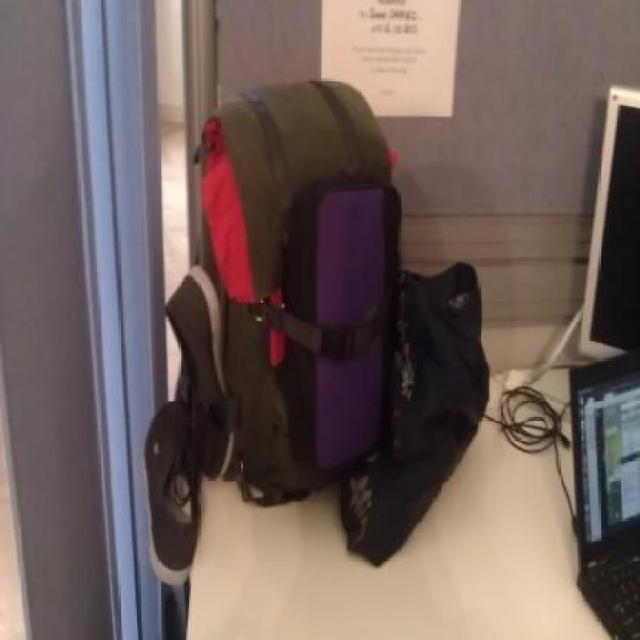backpack: (186, 70, 402, 512)
